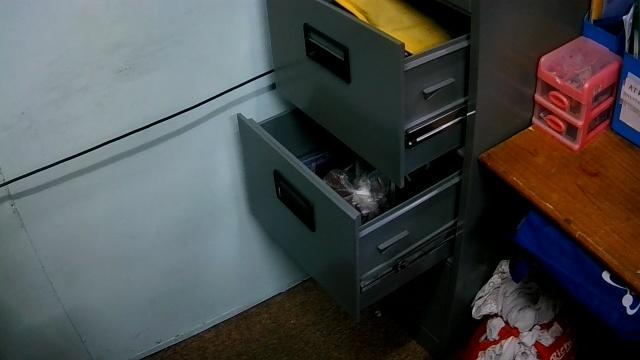Filing Cabinet: (235, 0, 479, 341)
